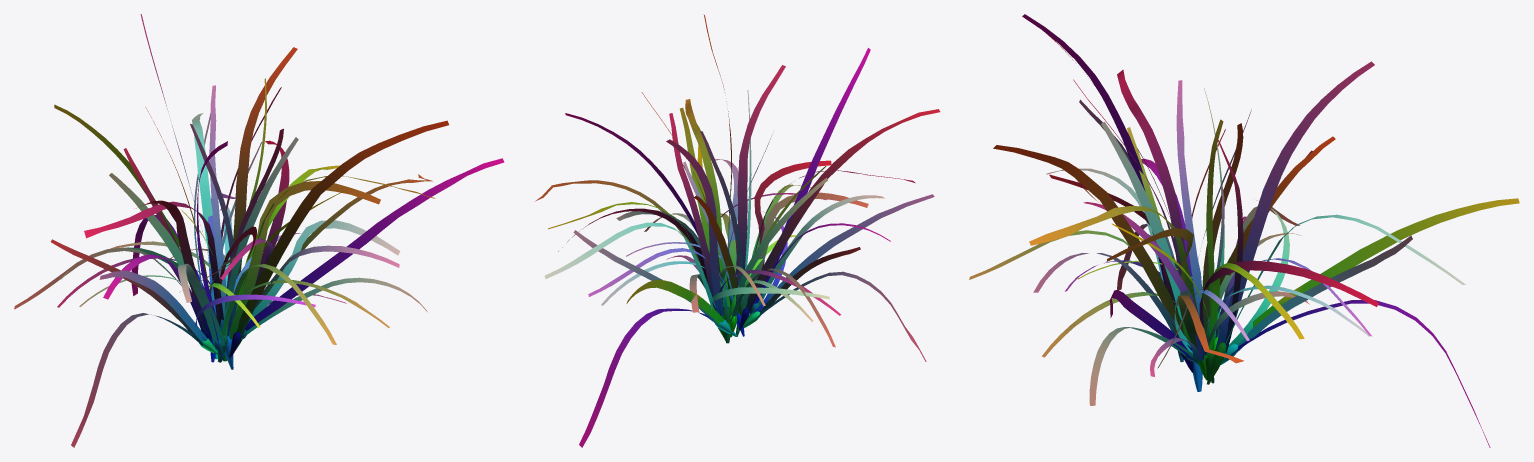
The model's file is Ribbon_Grass_tbdpec3r_High_tbdpec3r_VarA_LOD0.fbx.
The picture shows the model from 3 angles, left to right: view 1: azimuth 30°, elevation 25°; view 2: azimuth 150°, elevation 25°; view 3: azimuth 270°, elevation 25°; orthographic projection. The views are drawn at different scales.
Parts seen in each view (by area): view 1: _d4a2_VarA_LOD0; view 2: _d4a2_VarA_LOD0; view 3: _d4a2_VarA_LOD0.
Part boxes in pixels (x1,y1,x2,y2): _d4a2_VarA_LOD0: (14, 14, 504, 447); _d4a2_VarA_LOD0: (535, 14, 940, 447); _d4a2_VarA_LOD0: (969, 14, 1519, 447).
Bounding box in the file's own units: 70.82 × 54.1 × 72.91.
